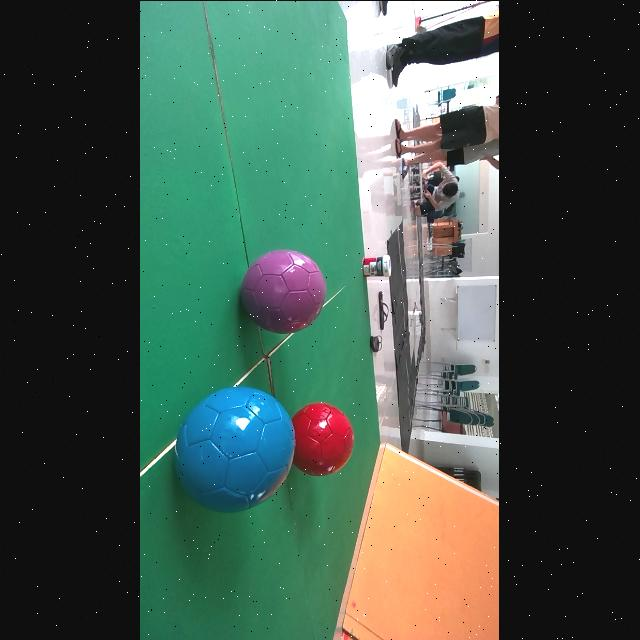B: (176, 386, 296, 511)
P: (242, 249, 327, 332)
R: (294, 401, 355, 475)
